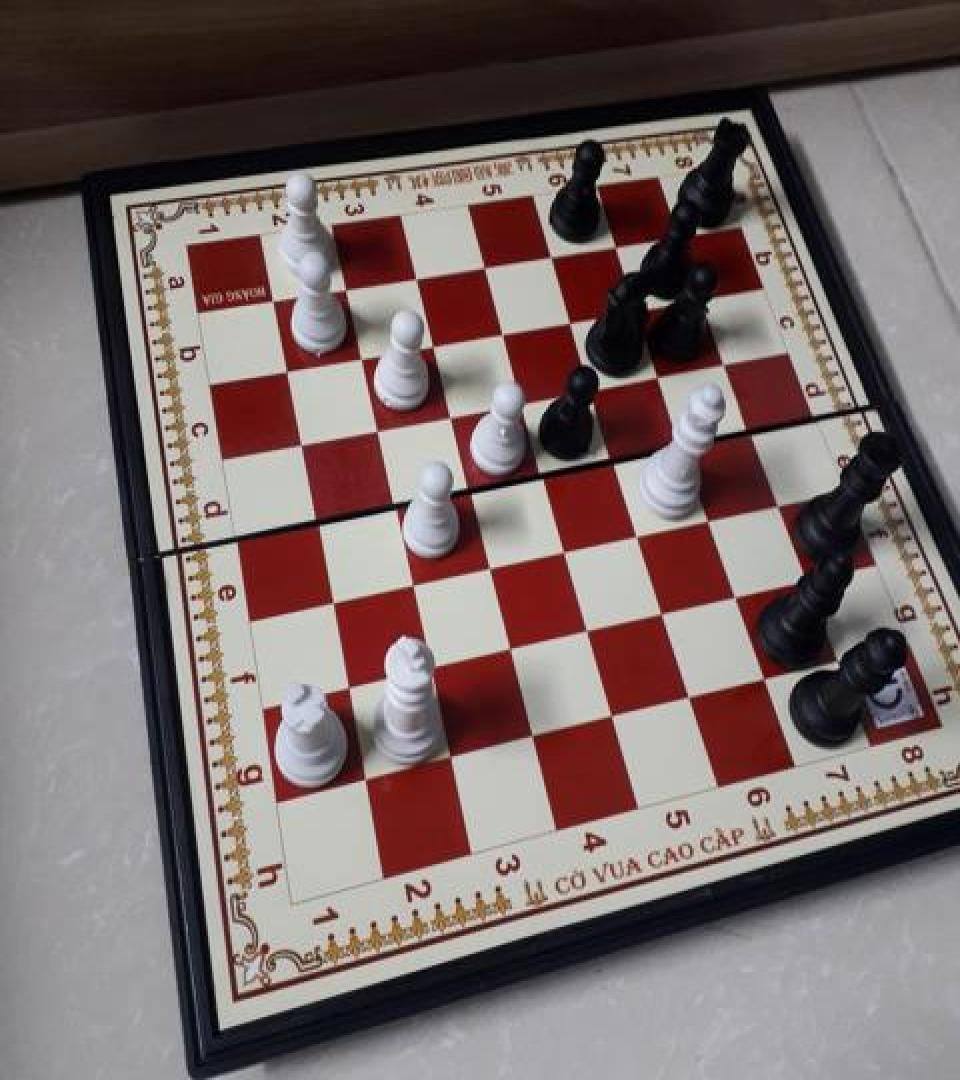xcorner: (668, 219, 696, 251), (604, 229, 632, 261), (472, 252, 500, 284), (403, 263, 431, 295), (690, 281, 718, 313), (625, 292, 653, 324), (490, 317, 518, 349), (348, 343, 376, 375), (274, 355, 302, 387), (714, 346, 742, 378), (579, 372, 607, 404), (437, 399, 465, 431), (363, 414, 391, 446), (738, 415, 766, 447), (601, 443, 629, 475), (380, 488, 408, 520), (302, 505, 330, 537), (764, 487, 792, 519), (623, 517, 651, 549), (550, 534, 578, 566), (475, 551, 503, 583), (397, 568, 425, 600), (318, 586, 346, 618), (792, 562, 820, 594), (721, 579, 749, 611), (648, 597, 676, 629), (573, 615, 601, 647), (495, 633, 523, 665), (416, 652, 444, 684), (821, 643, 849, 675), (748, 661, 776, 693), (517, 720, 545, 752), (436, 741, 464, 773), (539, 241, 567, 272), (333, 276, 361, 307), (261, 287, 289, 318), (558, 305, 586, 336), (420, 330, 448, 361), (647, 359, 675, 390), (509, 386, 537, 417), (288, 429, 316, 460), (670, 429, 698, 460), (529, 458, 557, 489), (455, 474, 483, 505), (695, 502, 723, 533), (334, 672, 362, 703), (673, 681, 701, 712), (596, 701, 624, 732), (352, 763, 380, 794)
